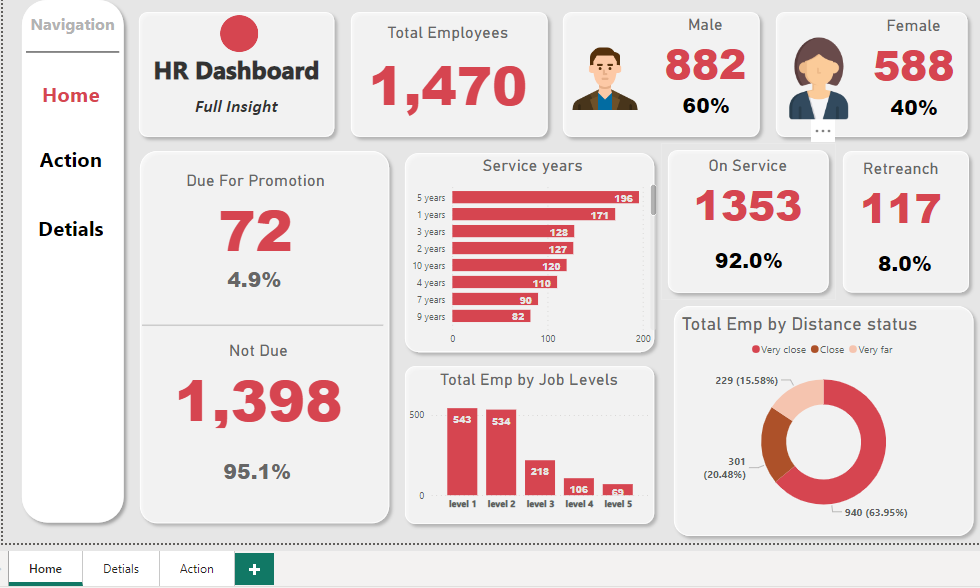

This screenshot's page, from the dashboard's own definition file:
{"tool":"powerbi","page":{"name":"Home","canvas":[1280,720],"ordinal":0},"visuals":[{"type":"shape","box":[15.1,0,151.2,702.2],"z":0},{"type":"shape","box":[169.2,15.2,273.8,181.4],"z":1000},{"type":"shape","box":[446.8,15.1,275.5,181.4],"z":2000},{"type":"shape","box":[724,15.1,275.5,181.4],"z":3000},{"type":"shape","box":[1002.4,15.2,268.8,181.4],"z":4000},{"type":"shape","box":[169.7,198.2,344.4,505.6],"z":5000},{"type":"shape","box":[517.4,199.9,344.4,278.8],"z":6000},{"type":"shape","box":[517.4,478.7,344.4,225.1],"z":7000},{"type":"shape","box":[1090.2,198.2,183.1,203.3],"z":8000},{"type":"shape","box":[861.7,196.5,228.5,204.9],"z":9000},{"type":"shape","box":[869.8,400.5,410.2,319.3],"z":10000},{"type":"textbox","box":[184.8,72.2,241.9,55.4],"z":11000},{"type":"textbox","box":[184.8,127.7,241.9,55.4],"z":12000},{"type":"shape","box":[283.9,28.6,50.4,48.7],"z":13000},{"type":"card","title":"Total Employees","fields":{"Values":["All Measures.Total Emp"]},"box":[455.2,38.6,253.6,129.3],"z":14000},{"type":"card","title":"Male","fields":{"Values":["All Measures.Male"]},"box":[851.7,28.6,134.4,97.4],"z":15000},{"type":"card","title":"Male","fields":{"Values":["All Measures.% Male"]},"box":[853.3,109.2,134.4,77.3],"z":16000},{"type":"card","title":"Female","fields":{"Values":["All Measures.Female"]},"box":[1125.5,30.2,132.7,97.4],"z":17000},{"type":"card","title":"Male","fields":{"Values":["All Measures.% Female"]},"box":[1125.4,110.8,134.4,77.3],"z":18000},{"type":"card","title":"Due For Promotion ","fields":{"Values":["All Measures.Due For Promotion"]},"box":[215,233.5,231.8,119.3],"z":19000},{"type":"card","title":"Male","fields":{"Values":["All Measures.% Due For Promotion"]},"box":[231.8,330.9,194.9,89],"z":20000},{"type":"card","title":"Not Due ","fields":{"Values":["All Measures.Not Due"]},"box":[218.4,455.2,231.8,119.3],"z":21000},{"type":"card","title":"Male","fields":{"Values":["All Measures.% Not Due"]},"box":[235.2,566.1,194.9,122.6],"z":22000},{"type":"shape","box":[181.4,421.6,315.8,26.9],"z":23000},{"type":"barChart","title":"Service years","fields":{"Category":["HR Analytics Data.Service years"],"Y":["All Measures.Total Emp"]},"box":[525.8,213.3,334.3,257],"z":24000},{"type":"columnChart","fields":{"Category":["HR Analytics Data.Job Levels"],"Y":["All Measures.Total Emp"]},"box":[526,493.7,324.9,193.9],"z":25000},{"type":"card","title":"On Service","fields":{"Values":["All Measures.On Service"]},"box":[892.1,213.6,167.1,97.3],"z":26000},{"type":"card","title":"Male","fields":{"Values":["All Measures.% On Service"]},"box":[909.5,310.9,133.7,77],"z":27000},{"type":"card","title":"Retreanch","fields":{"Values":["All Measures.Will be Retreanchment"]},"box":[1092.4,217.8,167.1,97.3],"z":28000},{"type":"card","title":"Male","fields":{"Values":["All Measures.% Will be Retreanchment"]},"box":[1114.4,315.3,133.7,77],"z":29000},{"type":"donutChart","fields":{"Category":["HR Analytics Data.Distance status"],"Y":["All Measures.Total Emp"]},"box":[883.6,418.4,381.2,282.2],"z":30000},{"type":"image","box":[1009.4,38.9,116.6,144],"z":31000},{"type":"image","box":[734.4,33.1,106.6,152.6],"z":32000},{"type":"actionButton","box":[39.9,103.2,99.1,56.4],"z":33000},{"type":"actionButton","box":[39.9,192.7,99.1,48.2],"z":34000},{"type":"actionButton","box":[39.9,283.5,99.1,46.8],"z":35000},{"type":"shape","box":[30.2,70.6,122.4,13],"z":36000},{"type":"textbox","box":[22,20.6,137.6,49.5],"z":40000}]}

Visuals, with their boxes on the page's 1280x720 design canvas (x1, y1, x2, y2). These are canvas units, not pixel positions in the 980x588 screenshot, which may show the page scaled, cropped or inside an application window:
shape: [x1=15, y1=0, x2=166, y2=702]
shape: [x1=169, y1=15, x2=443, y2=197]
shape: [x1=447, y1=15, x2=722, y2=196]
shape: [x1=724, y1=15, x2=1000, y2=196]
shape: [x1=1002, y1=15, x2=1271, y2=197]
shape: [x1=170, y1=198, x2=514, y2=704]
shape: [x1=517, y1=200, x2=862, y2=479]
shape: [x1=517, y1=479, x2=862, y2=704]
shape: [x1=1090, y1=198, x2=1273, y2=402]
shape: [x1=862, y1=196, x2=1090, y2=401]
shape: [x1=870, y1=400, x2=1280, y2=720]
textbox: [x1=185, y1=72, x2=427, y2=128]
textbox: [x1=185, y1=128, x2=427, y2=183]
shape: [x1=284, y1=29, x2=334, y2=77]
"Total Employees" card: [x1=455, y1=39, x2=709, y2=168]
"Male" card: [x1=852, y1=29, x2=986, y2=126]
"Male" card: [x1=853, y1=109, x2=988, y2=186]
"Female" card: [x1=1126, y1=30, x2=1258, y2=128]
"Male" card: [x1=1125, y1=111, x2=1260, y2=188]
"Due For Promotion " card: [x1=215, y1=234, x2=447, y2=353]
"Male" card: [x1=232, y1=331, x2=427, y2=420]
"Not Due " card: [x1=218, y1=455, x2=450, y2=574]
"Male" card: [x1=235, y1=566, x2=430, y2=689]
shape: [x1=181, y1=422, x2=497, y2=448]
"Service years" barChart: [x1=526, y1=213, x2=860, y2=470]
columnChart - HR Analytics Data.Job Levels x All Measures.Total Emp: [x1=526, y1=494, x2=851, y2=688]
"On Service" card: [x1=892, y1=214, x2=1059, y2=311]
"Male" card: [x1=910, y1=311, x2=1043, y2=388]
"Retreanch" card: [x1=1092, y1=218, x2=1260, y2=315]
"Male" card: [x1=1114, y1=315, x2=1248, y2=392]
donutChart - HR Analytics Data.Distance status x All Measures.Total Emp: [x1=884, y1=418, x2=1265, y2=701]
image: [x1=1009, y1=39, x2=1126, y2=183]
image: [x1=734, y1=33, x2=841, y2=186]
actionButton: [x1=40, y1=103, x2=139, y2=160]
actionButton: [x1=40, y1=193, x2=139, y2=241]
actionButton: [x1=40, y1=284, x2=139, y2=330]
shape: [x1=30, y1=71, x2=153, y2=84]
textbox: [x1=22, y1=21, x2=160, y2=70]
